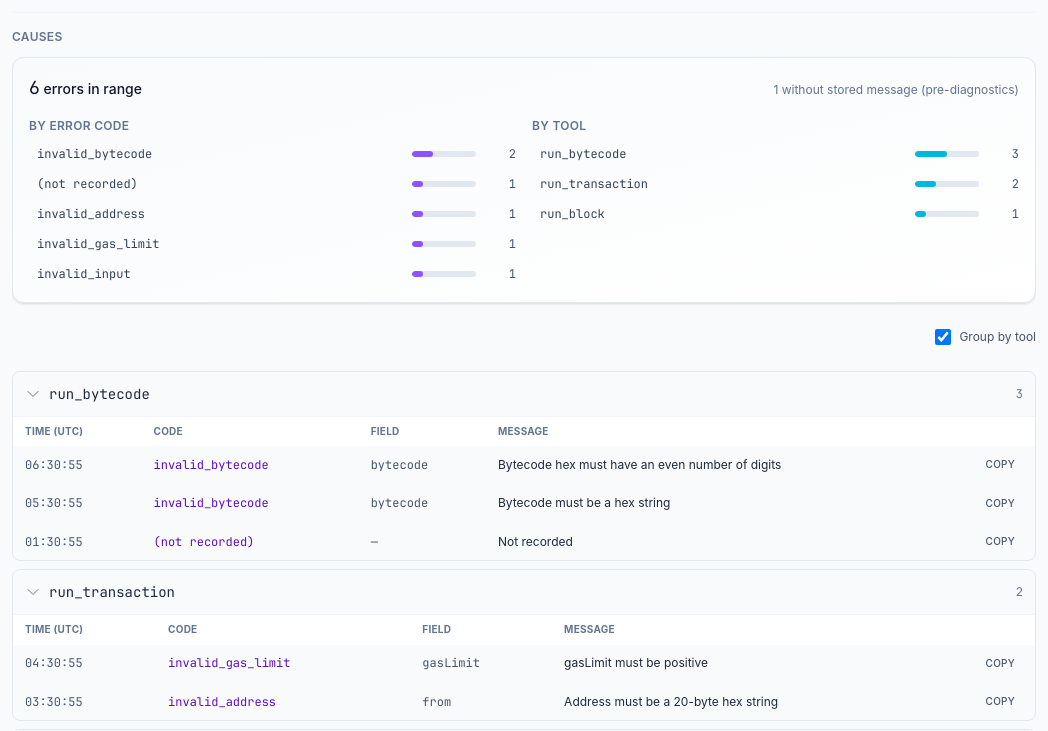
ToolErrorList › filters when a code stat row is clicked
Click the button "invalid_gas_limit": [98, 244] box [29, 232, 404, 256]
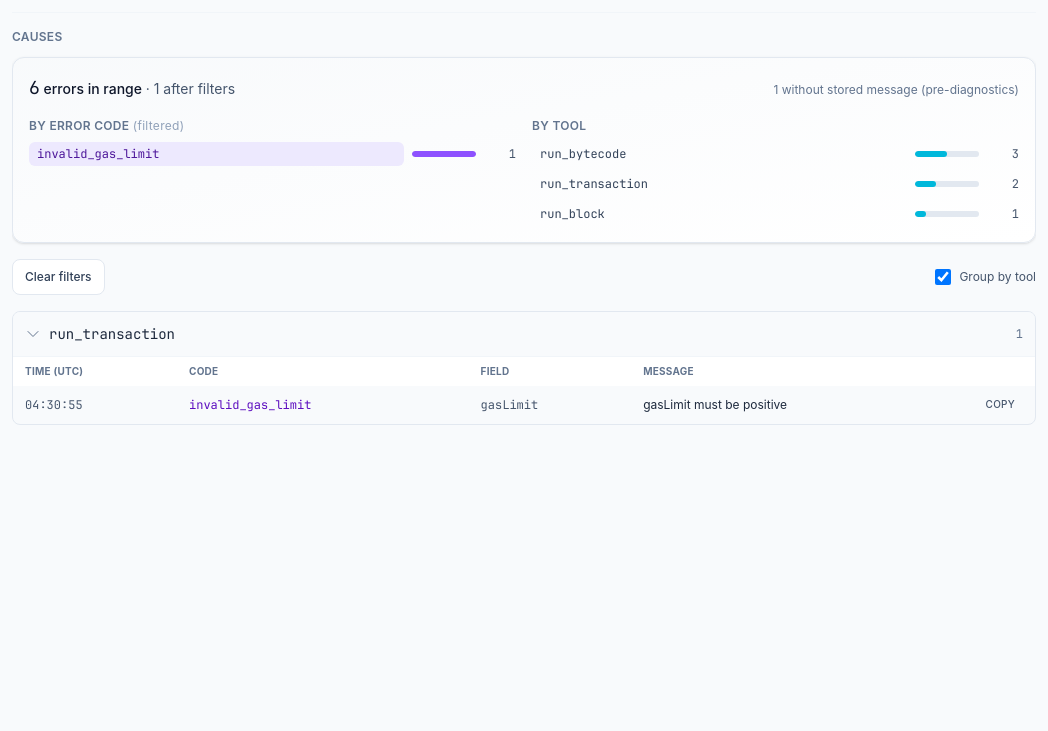
Check: the text "after filters" is shown, box [146, 80, 235, 97]
